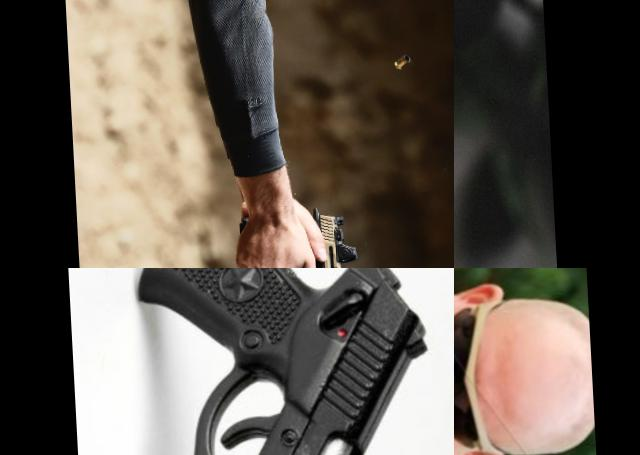handgun: (92, 268, 449, 455), (454, 0, 605, 268), (230, 191, 363, 268), (454, 319, 514, 375)
